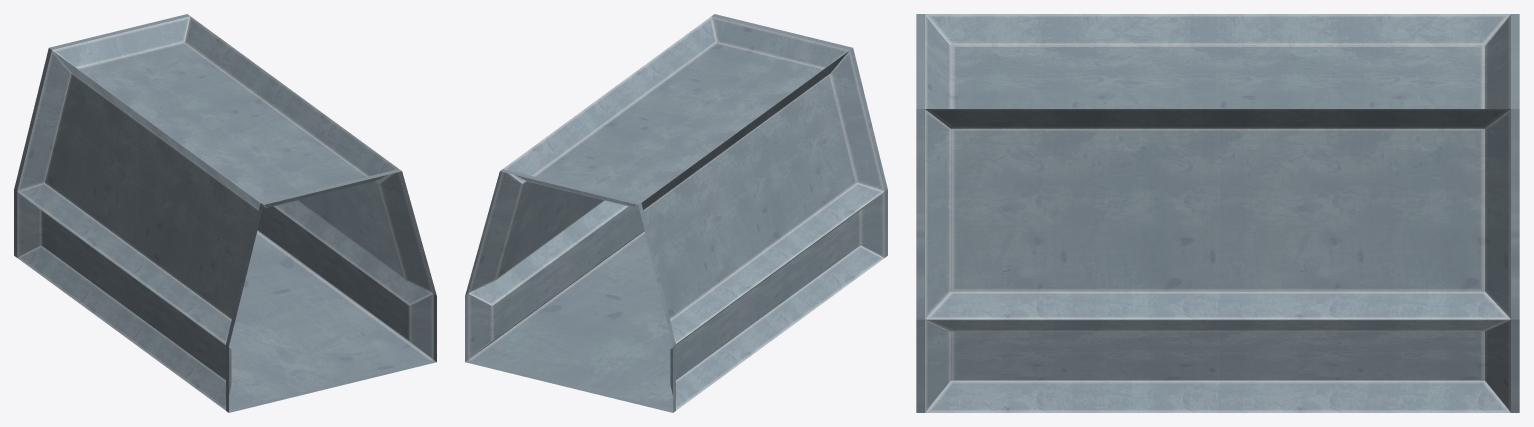
File: CorridorA.fbx
3 views of the same model, side by side, from view 1: azimuth 30°, elevation 25°; view 2: azimuth 150°, elevation 25°; view 3: azimuth 270°, elevation 25° (orthographic). The views are drawn at different scales.
Visible parts, largest first — view 1: corridorA01; view 2: corridorA01; view 3: corridorA01.
Part boxes in pixels (x1,y1,x2,y2): corridorA01: (14, 14, 436, 412); corridorA01: (465, 14, 887, 412); corridorA01: (916, 14, 1519, 412).
Bounding box in the file's own units: 1 × 0.9169 × 1.79.
